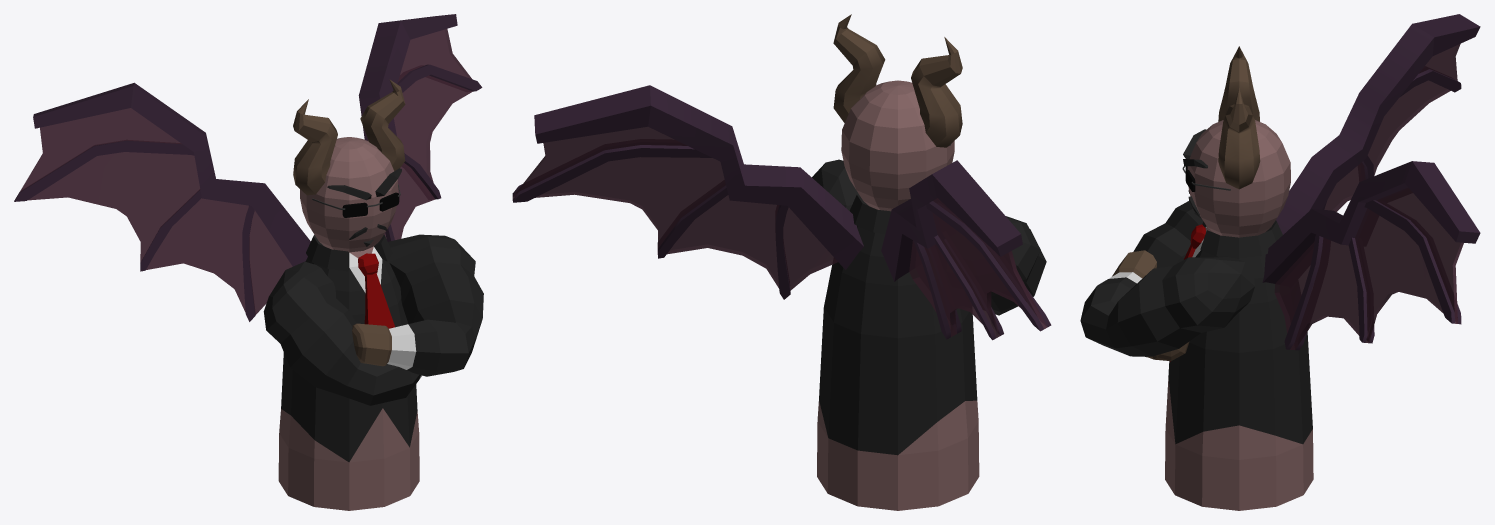
Rendered from cashMonetBoss.fbx.
The picture shows the model from 3 angles, left to right: view 1: azimuth 30°, elevation 25°; view 2: azimuth 150°, elevation 25°; view 3: azimuth 270°, elevation 25°; orthographic projection. The views are drawn at different scales.
Visible parts, largest first — view 1: polySurface40; view 2: polySurface40; view 3: polySurface40.
Boxes of the visible parts, <box> form: polySurface40: <box>14,14,483,510</box>; polySurface40: <box>512,14,1051,510</box>; polySurface40: <box>1080,14,1480,510</box>.
Size of the model in its own units: 728 by 582 by 511.
